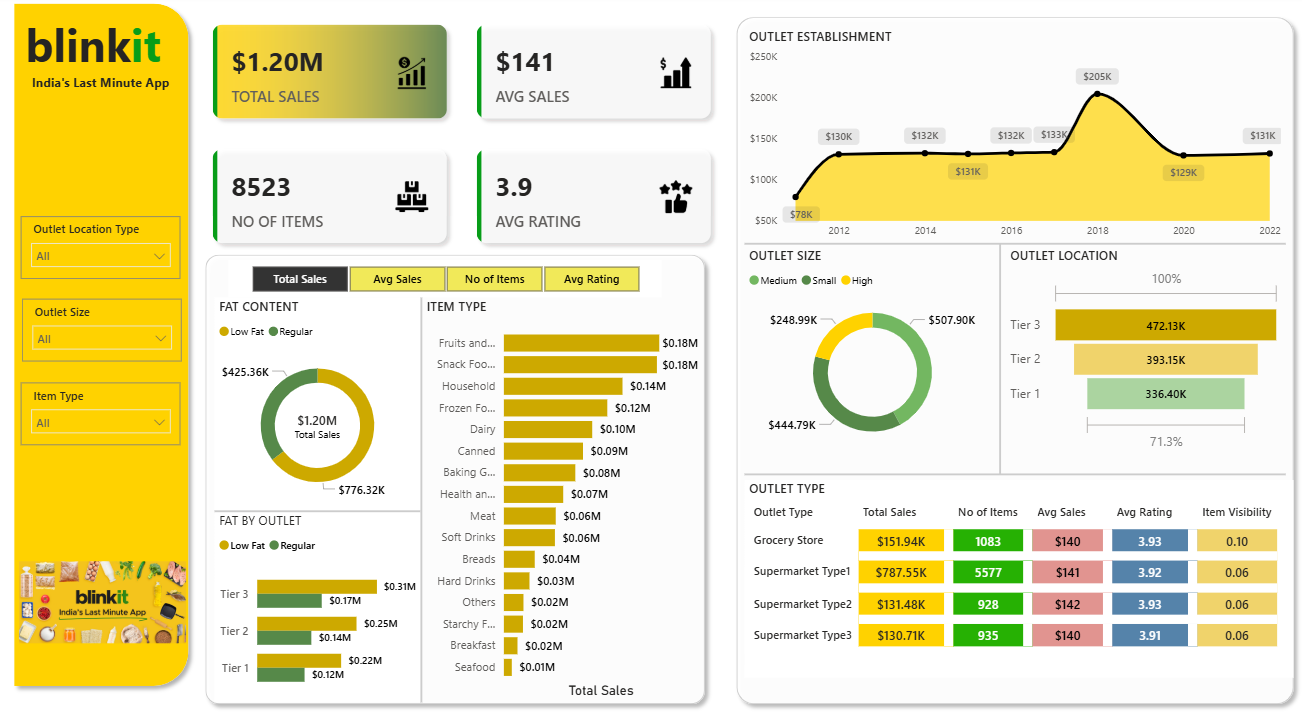

This screenshot's page, from the dashboard's own definition file:
{"tool":"powerbi","page":{"name":"Dashboard","canvas":[1400,800],"ordinal":0},"visuals":[{"type":"shape","box":[10,0,205,750],"z":0},{"type":"textbox","box":[25.5,14.7,160.9,81.8],"z":1000},{"type":"textbox","box":[25.5,79.1,171.6,32.2],"z":2000},{"type":"cardVisual","fields":{"Data":["BlinkIT Grocery Data.Total Sales","BlinkIT Grocery Data.Avg Sales","BlinkIT Grocery Data.No of Items","BlinkIT Grocery Data.Avg Rating"]},"box":[214.5,14.7,569.7,269.4],"z":3000},{"type":"shape","box":[214.5,269.4,553.6,500],"z":4000},{"type":"donutChart","title":"FAT CONTENT","fields":{"Y":["BlinkIT Grocery Data.Total Sales"],"Category":["BlinkIT Grocery Data.Item Fat Content"]},"box":[233.2,324.4,221.2,229.2],"z":5000},{"type":"slicer","fields":{"Values":["Metrics.Metrics"]},"box":[248,284.2,465.1,40.2],"z":6000},{"type":"cardVisual","fields":{"Data":["BlinkIT Grocery Data.Total Sales"]},"box":[289.5,424.9,108.6,75.1],"z":6001},{"type":"clusteredBarChart","title":"FAT BY OUTLET","fields":{"Y":["BlinkIT Grocery Data.Total Sales"],"Category":["BlinkIT Grocery Data.Outlet Location Type"],"Series":["BlinkIT Grocery Data.Item Fat Content"]},"box":[233.2,553.6,221.2,205.1],"z":6002},{"type":"shape","box":[233.2,536.2,221.2,34.9],"z":6003},{"type":"shape","box":[344.5,324.4,221.2,434.3],"z":6004},{"type":"barChart","title":"ITEM TYPE","fields":{"Category":["BlinkIT Grocery Data.Item Type"],"Y":["BlinkIT Grocery Data.Total Sales"]},"box":[455.8,324.4,301.6,434.3],"z":6005},{"type":"shape","box":[784.2,14.7,615.3,754.7],"z":6006},{"type":"lineChart","title":"OUTLET ESTABLISHMENT","fields":{"Category":["BlinkIT Grocery Data.Outlet Establishment Year"],"Y":["BlinkIT Grocery Data.Total Sales"]},"box":[801.6,34.9,580.4,234.6],"z":6007},{"type":"shape","box":[801.6,249.3,580.4,34.9],"z":6008},{"type":"donutChart","title":"OUTLET SIZE","fields":{"Y":["BlinkIT Grocery Data.Total Sales"],"Category":["BlinkIT Grocery Data.Outlet Size"]},"box":[801.6,269.4,274.8,225.2],"z":6009},{"type":"shape","box":[965.2,266.8,221.2,248],"z":6010},{"type":"funnel","title":"OUTLET LOCATION","fields":{"Y":["Sum(BlinkIT Grocery Data.Sales)"],"Category":["BlinkIT Grocery Data.Outlet Location Type"]},"box":[1081.8,269.4,300.3,225.2],"z":6011},{"type":"shape","box":[801.6,439.7,580.4,148.8],"z":6012},{"type":"pivotTable","title":"OUTLET TYPE","fields":{"Rows":["BlinkIT Grocery Data.Outlet Type"],"Values":["BlinkIT Grocery Data.Total Sales","BlinkIT Grocery Data.No of Items","BlinkIT Grocery Data.Avg Sales","BlinkIT Grocery Data.Avg Rating","Avg(BlinkIT Grocery Data.Item Visibility)"]},"box":[801.6,520.1,588.5,211.8],"z":6013},{"type":"slicer","fields":{"Values":["BlinkIT Grocery Data.Outlet Location Type"]},"box":[25.5,237.3,171.6,67],"z":6014},{"type":"slicer","fields":{"Values":["BlinkIT Grocery Data.Outlet Size"]},"box":[26.8,325.7,171.6,67],"z":6015},{"type":"slicer","fields":{"Values":["BlinkIT Grocery Data.Item Type"]},"box":[25.5,415.6,171.6,67],"z":6016},{"type":"image","box":[18.8,553.6,189,195.7],"z":6017}]}

Visuals, with their boxes on the page's 1400x800 design canvas (x1, y1, x2, y2). These are canvas units, not pixel positions in the 1302x722 screenshot, which may show the page scaled, cropped or inside an application window:
shape: select_region(10, 0, 215, 750)
textbox: select_region(26, 15, 186, 96)
textbox: select_region(26, 79, 197, 111)
cardVisual - BlinkIT Grocery Data.Total Sales x BlinkIT Grocery Data.Avg Sales: select_region(214, 15, 784, 284)
shape: select_region(214, 269, 768, 769)
"FAT CONTENT" donutChart: select_region(233, 324, 454, 554)
slicer - Metrics.Metrics: select_region(248, 284, 713, 324)
cardVisual - BlinkIT Grocery Data.Total Sales: select_region(290, 425, 398, 500)
"FAT BY OUTLET" clusteredBarChart: select_region(233, 554, 454, 759)
shape: select_region(233, 536, 454, 571)
shape: select_region(344, 324, 566, 759)
"ITEM TYPE" barChart: select_region(456, 324, 757, 759)
shape: select_region(784, 15, 1400, 769)
"OUTLET ESTABLISHMENT" lineChart: select_region(802, 35, 1382, 270)
shape: select_region(802, 249, 1382, 284)
"OUTLET SIZE" donutChart: select_region(802, 269, 1076, 495)
shape: select_region(965, 267, 1186, 515)
"OUTLET LOCATION" funnel: select_region(1082, 269, 1382, 495)
shape: select_region(802, 440, 1382, 588)
"OUTLET TYPE" pivotTable: select_region(802, 520, 1390, 732)
slicer - BlinkIT Grocery Data.Outlet Location Type: select_region(26, 237, 197, 304)
slicer - BlinkIT Grocery Data.Outlet Size: select_region(27, 326, 198, 393)
slicer - BlinkIT Grocery Data.Item Type: select_region(26, 416, 197, 483)
image: select_region(19, 554, 208, 749)
